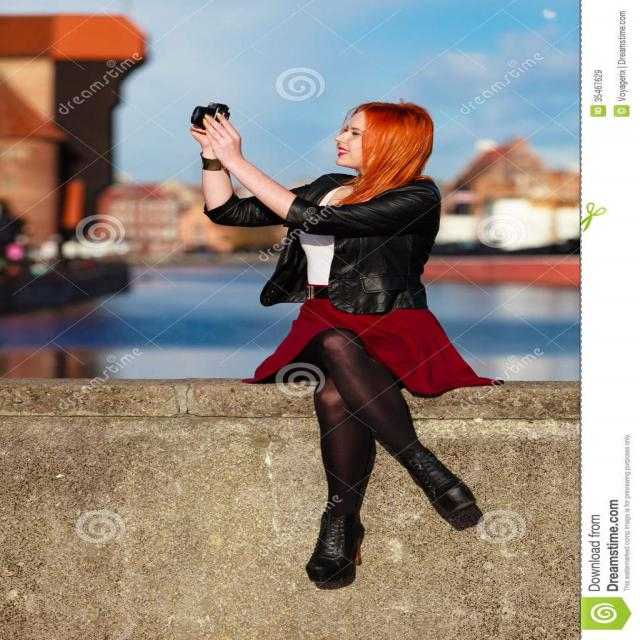nomask: (334, 104, 400, 170)
